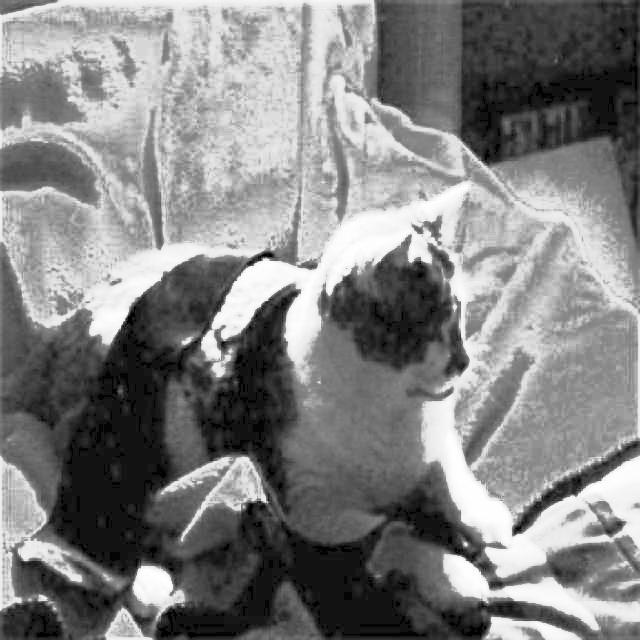Cat: (0, 176, 515, 635)
